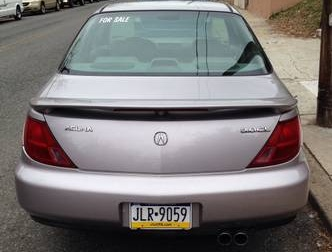acura: (19, 1, 325, 236)
